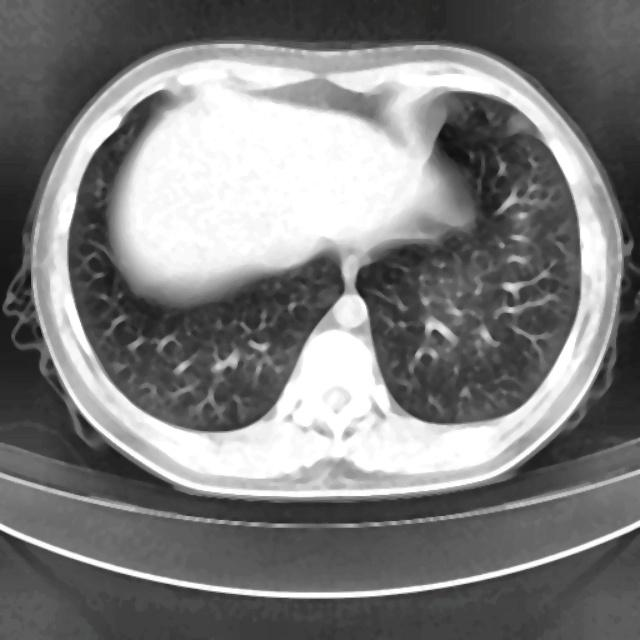covid: (11, 38, 630, 502)
